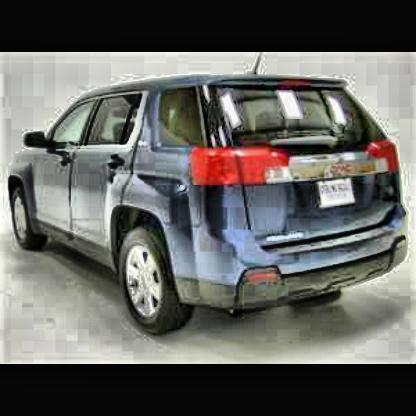GMC Terrain SUV 2012: (4, 56, 416, 341)
